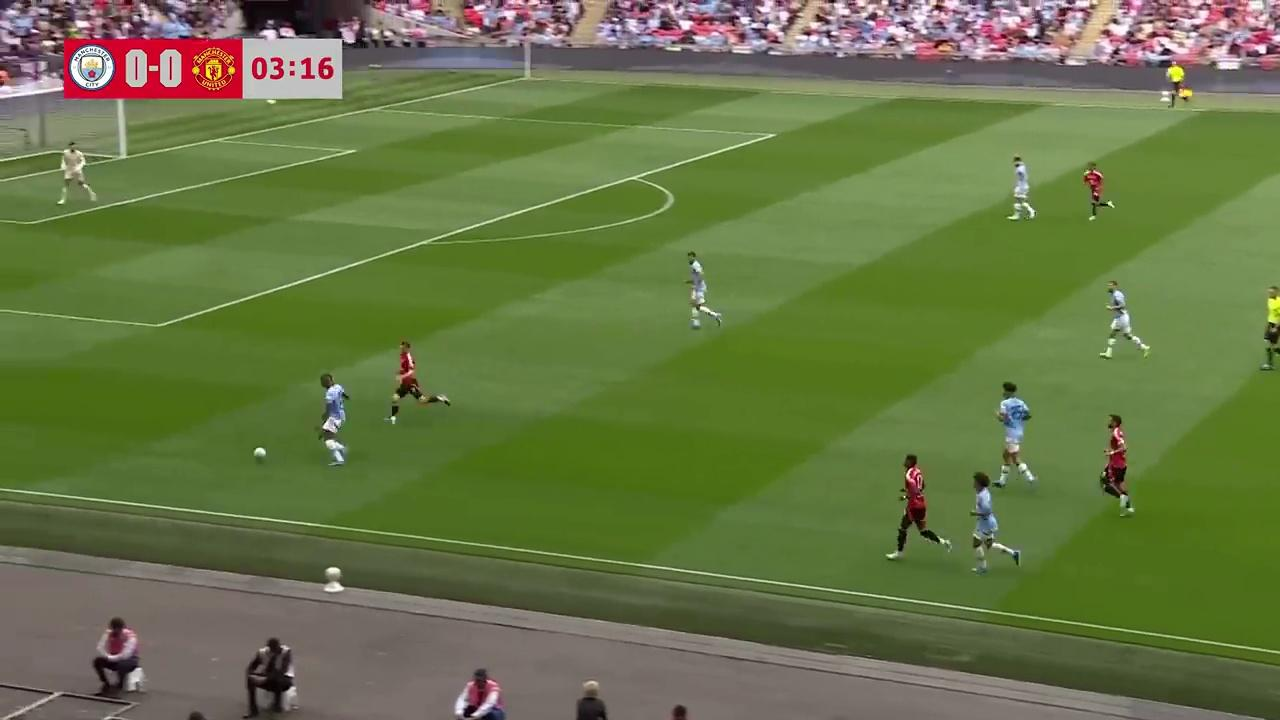ball: (252, 444, 268, 461)
player: (891, 454, 952, 557), (968, 470, 1020, 574), (385, 339, 446, 425), (995, 382, 1036, 486), (1100, 280, 1148, 359), (1098, 414, 1134, 516), (316, 372, 349, 467), (684, 251, 723, 330), (57, 142, 97, 206), (1007, 154, 1036, 221), (1083, 163, 1113, 221)
referee: (1261, 285, 1280, 371), (1163, 60, 1193, 109)
